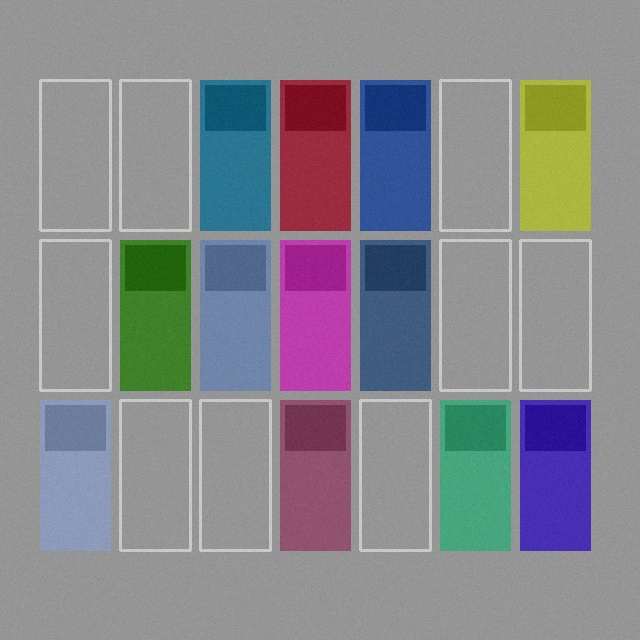space-empty: (40, 80, 110, 230), (120, 80, 190, 230), (440, 80, 510, 230), (40, 240, 110, 390), (440, 240, 510, 390), (520, 240, 590, 390), (120, 400, 190, 550), (200, 400, 270, 550), (360, 400, 430, 550)
space-occupied: (200, 80, 270, 230), (280, 80, 350, 230), (360, 80, 430, 230), (520, 80, 590, 230), (120, 240, 190, 390), (200, 240, 270, 390), (280, 240, 350, 390), (360, 240, 430, 390), (40, 400, 110, 550), (280, 400, 350, 550), (440, 400, 510, 550), (520, 400, 590, 550)
